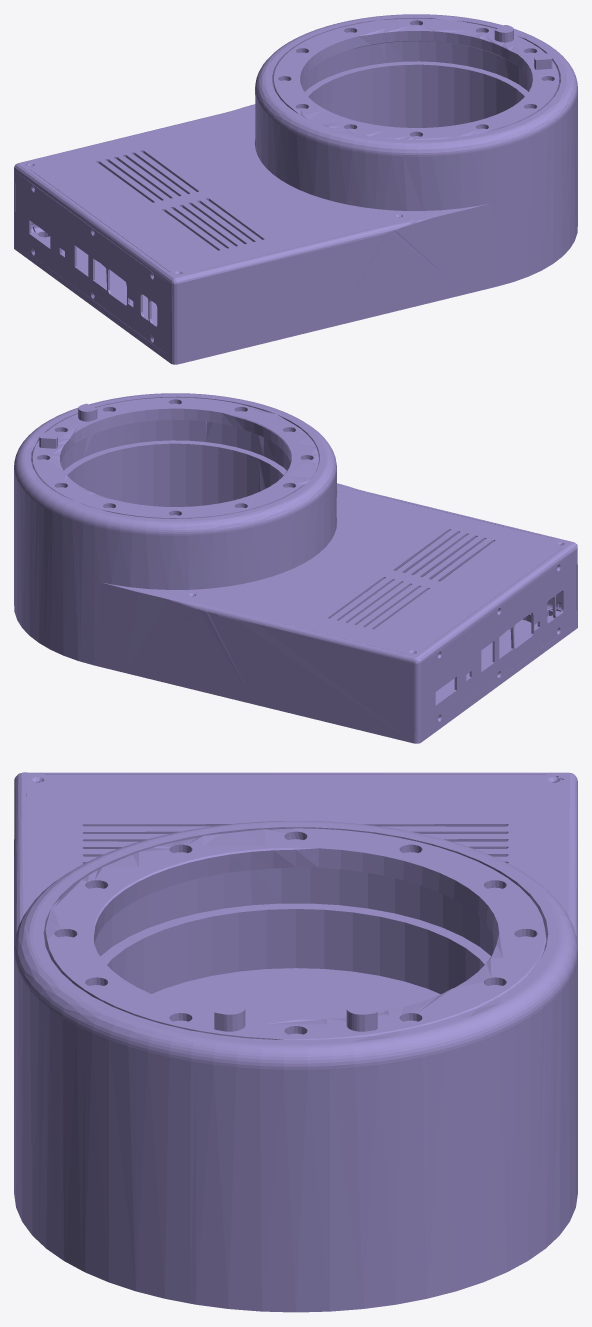
The picture shows the model from 3 angles, top to bottom: view 1: azimuth 30°, elevation 25°; view 2: azimuth 150°, elevation 25°; view 3: azimuth 270°, elevation 25°; orthographic projection. The views are drawn at different scales.
Visible parts, largest first — view 1: T2R3_TJ0_base; view 2: T2R3_TJ0_base; view 3: T2R3_TJ0_base.
Part boxes in pixels (x1,y1,x2,y2): T2R3_TJ0_base: (14,14,577,364); T2R3_TJ0_base: (14,393,577,743); T2R3_TJ0_base: (14,772,577,1312).
Bounding box in the file's own units: 0.315 × 0.19 × 0.1028.
